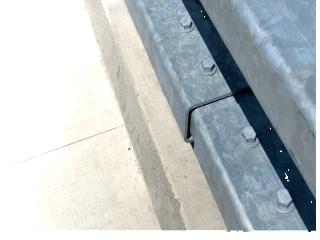Edge: (84, 2, 314, 230)
